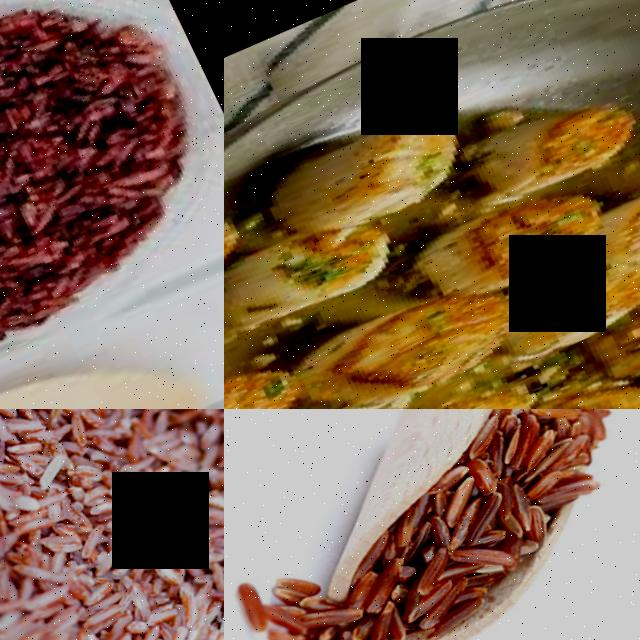red rice: (0, 0, 222, 409), (320, 409, 640, 640), (0, 409, 224, 640), (224, 543, 444, 640)
sea scallops: (279, 260, 532, 409), (264, 93, 475, 247), (416, 164, 616, 309), (224, 202, 404, 344), (465, 73, 640, 210), (502, 238, 640, 361), (347, 371, 527, 409), (603, 152, 640, 262), (224, 206, 251, 324)
